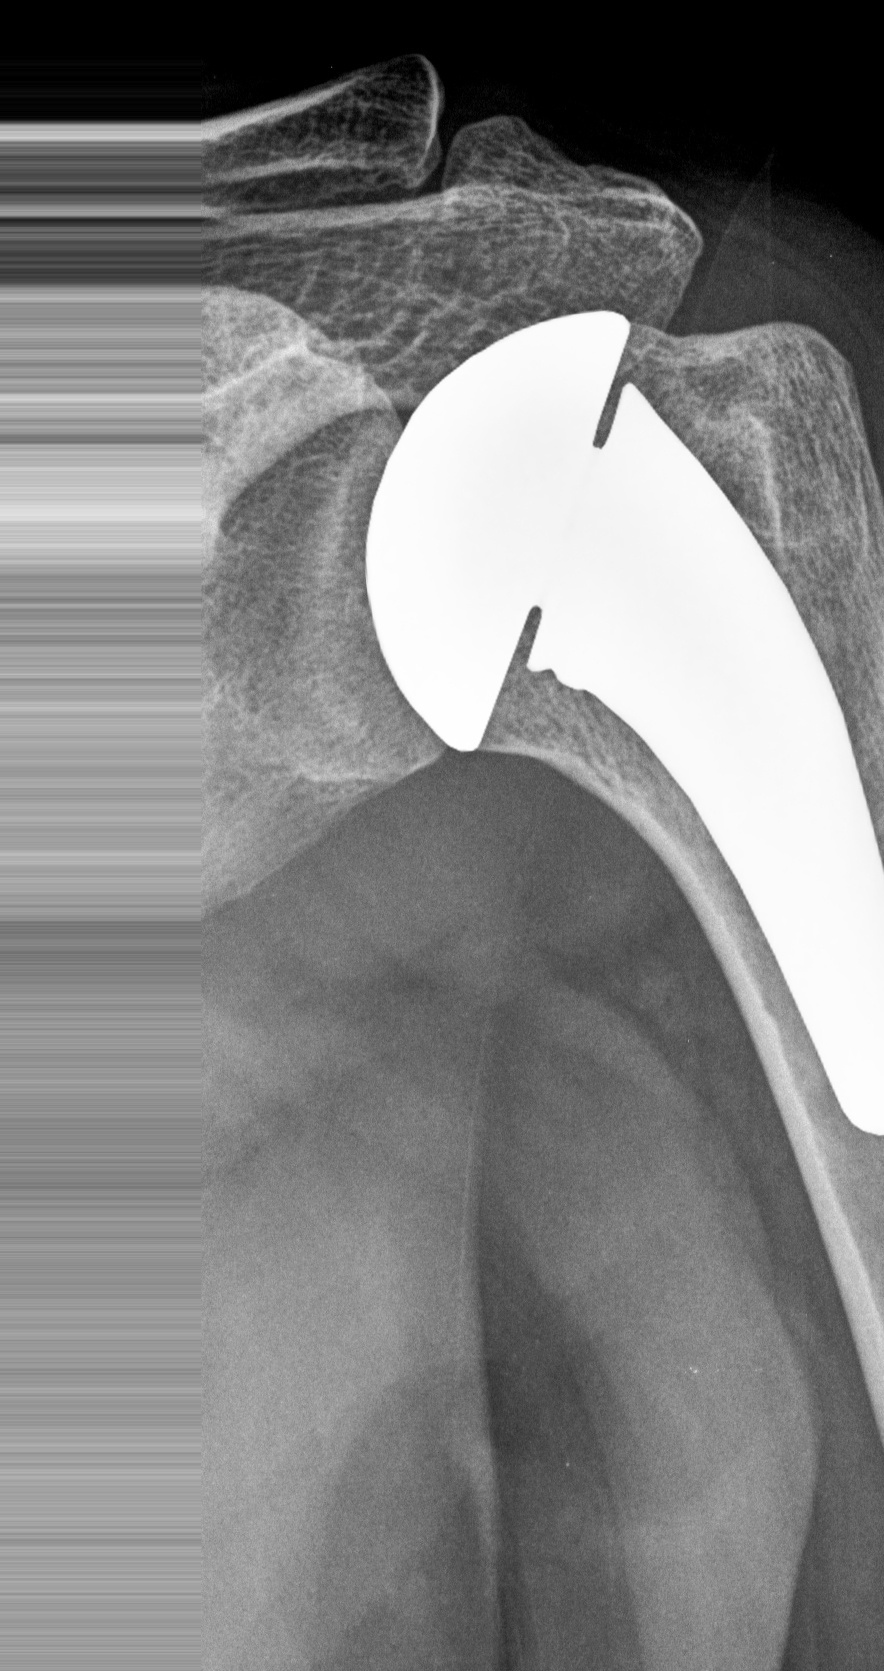Shoulder - AequalisAscendFlex - Tornier: (346, 290, 639, 758)
